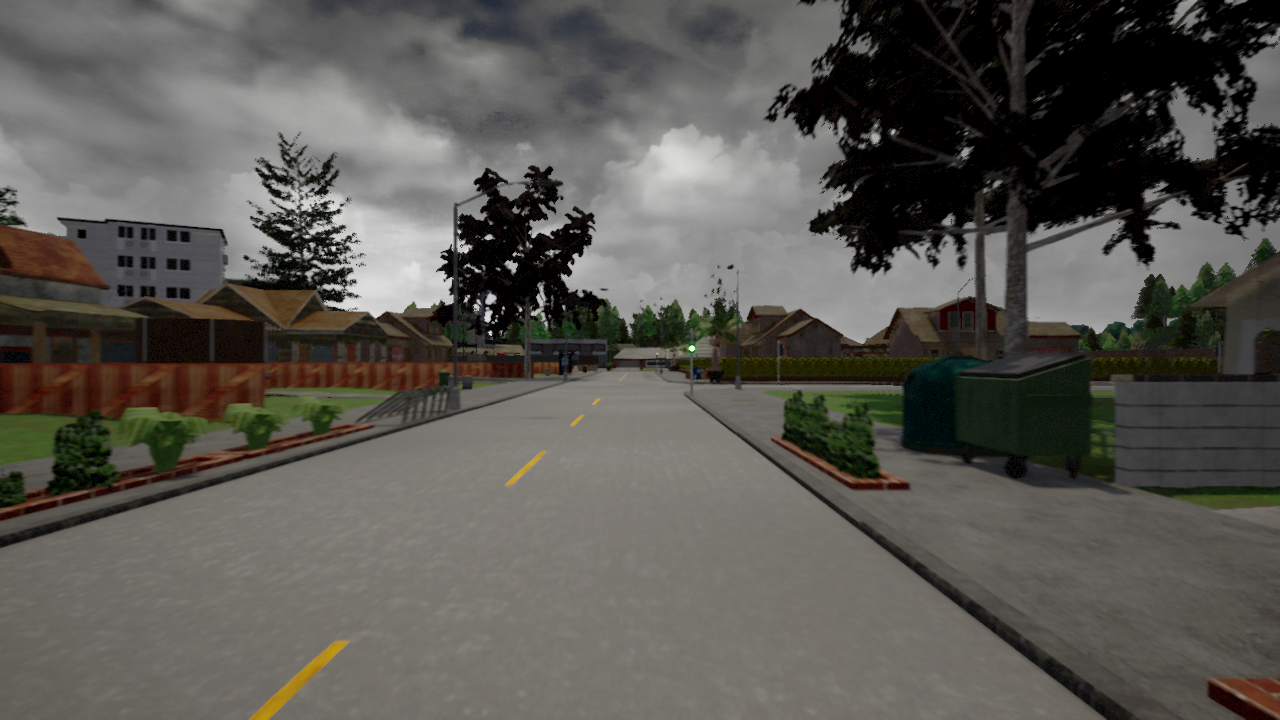green: (688, 332, 696, 353)
